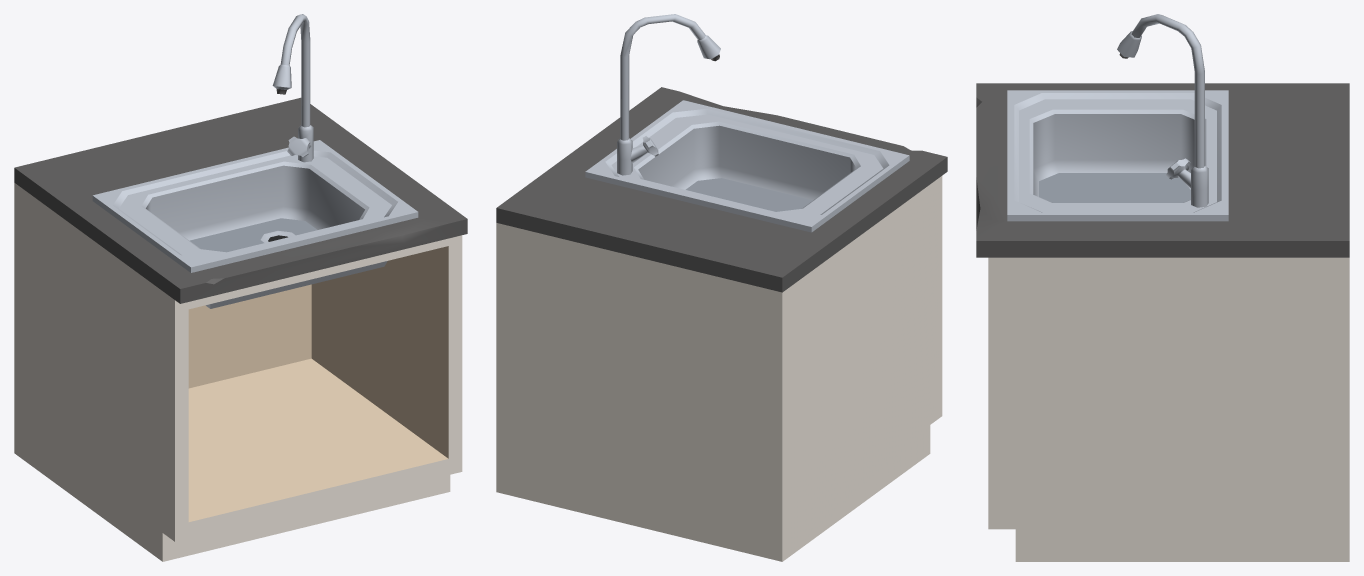
The model's file is SM_Prop_Kitchen_CounterSink_01.obj.
The picture shows the model from 3 angles, left to right: view 1: azimuth 30°, elevation 25°; view 2: azimuth 150°, elevation 25°; view 3: azimuth 270°, elevation 25°; orthographic projection. The views are drawn at different scales.
Parts seen in each view (by area): view 1: SM_Prop_Kitchen_CounterSink_01_Mat_SwatchOverlay_PolygonTown_01_; view 2: SM_Prop_Kitchen_CounterSink_01_Mat_SwatchOverlay_PolygonTown_01_; view 3: SM_Prop_Kitchen_CounterSink_01_Mat_SwatchOverlay_PolygonTown_01_.
Boxes of the visible parts, box(x1,y1,x2,y2) form: SM_Prop_Kitchen_CounterSink_01_Mat_SwatchOverlay_PolygonTown_01_: box(14, 14, 467, 561); SM_Prop_Kitchen_CounterSink_01_Mat_SwatchOverlay_PolygonTown_01_: box(496, 14, 947, 561); SM_Prop_Kitchen_CounterSink_01_Mat_SwatchOverlay_PolygonTown_01_: box(976, 14, 1349, 561).
Size of the model in its own units: 1 by 1.47 by 1.
Materials: 1 (1 with a texture image).
